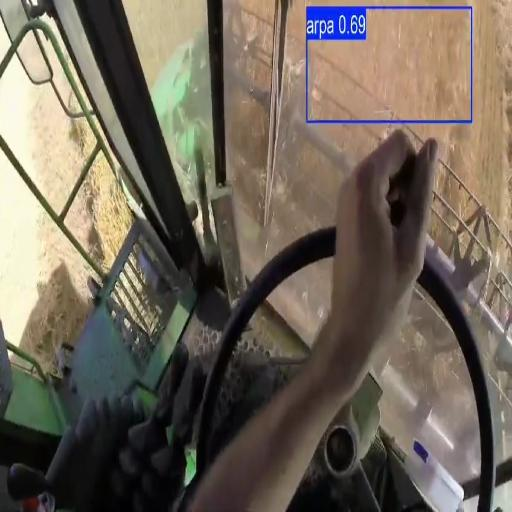arpa: (284, 0, 511, 226), (0, 63, 133, 269), (0, 151, 94, 368), (123, 0, 205, 87), (226, 92, 267, 217), (272, 165, 337, 226), (235, 0, 273, 84)
